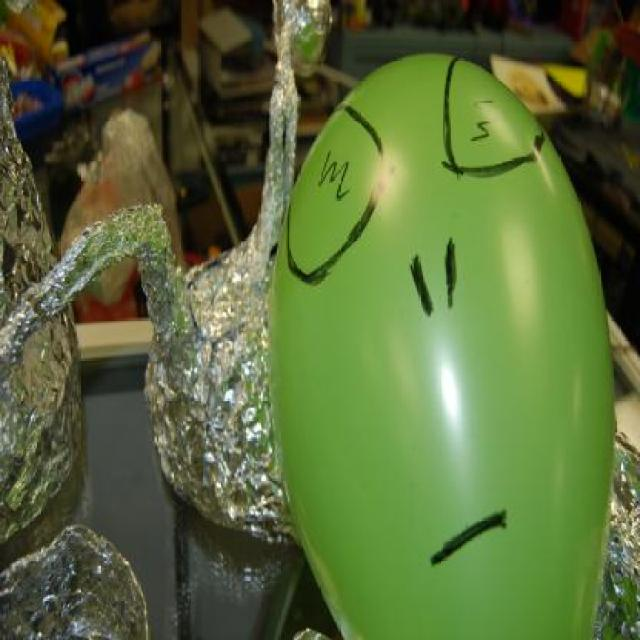balloon: (250, 44, 622, 639)
